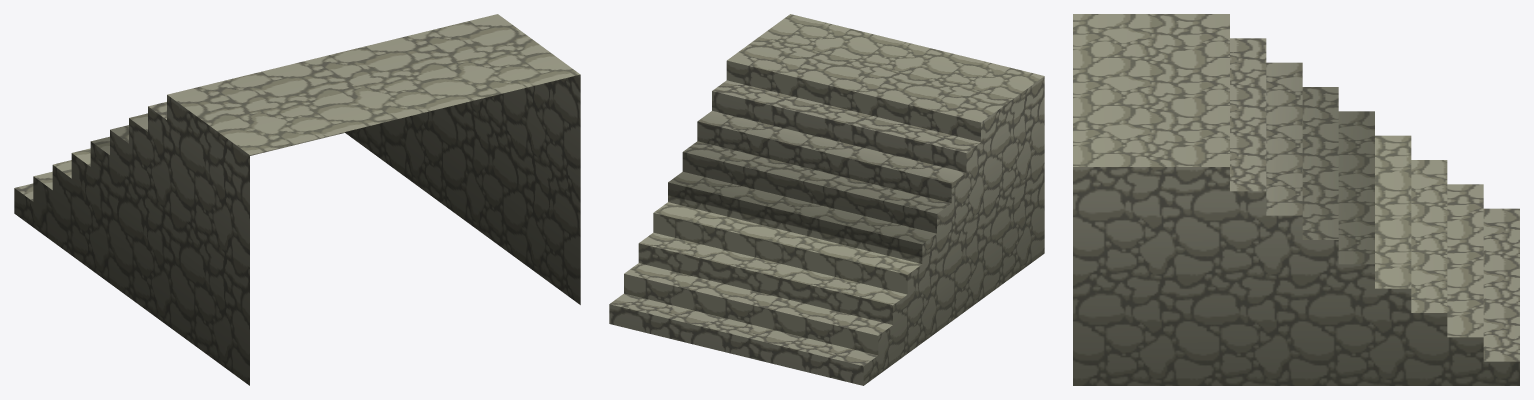
The model's file is NNJ0510072.fbx.
The picture shows the model from 3 angles, left to right: view 1: azimuth 30°, elevation 25°; view 2: azimuth 150°, elevation 25°; view 3: azimuth 270°, elevation 25°; orthographic projection. The views are drawn at different scales.
Parts seen in each view (by area): view 1: smNNJ0510072; view 2: smNNJ0510072; view 3: smNNJ0510072.
Boxes of the visible parts, x1,y1,x2,y2 form: smNNJ0510072: (14, 14, 580, 385); smNNJ0510072: (609, 14, 1044, 385); smNNJ0510072: (1073, 14, 1519, 385).
Bounding box in the file's own units: 276 × 184 × 341.
Materials: 1 (1 with a texture image).
